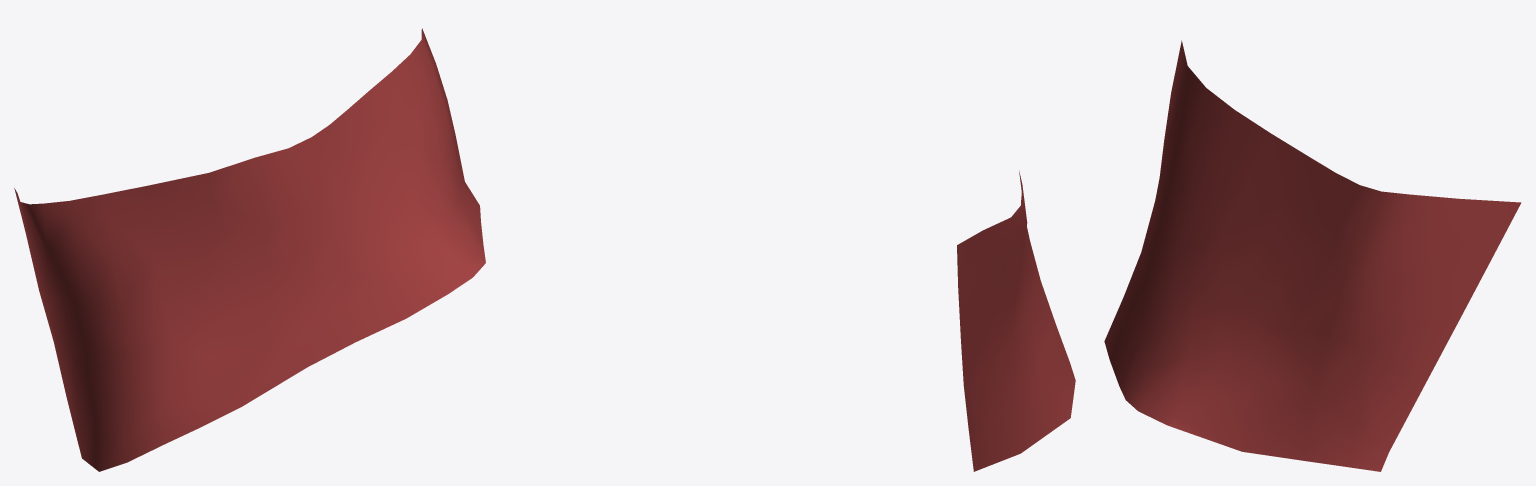
File: flexor-retinaculum-of-wrist-l.glb
3 views of the same model, side by side, from view 1: azimuth 30°, elevation 25°; view 2: azimuth 150°, elevation 25°; view 3: azimuth 270°, elevation 25° (orthographic). The views are drawn at different scales.
Visible parts, largest first — view 1: Flexor retinaculum of wrist.l; view 2: Flexor retinaculum of wrist.l; view 3: Flexor retinaculum of wrist.l.
Boxes of the visible parts, x1,y1,x2,y2 form: Flexor retinaculum of wrist.l: [14, 28, 485, 471]; Flexor retinaculum of wrist.l: [957, 170, 1075, 471]; Flexor retinaculum of wrist.l: [1104, 40, 1521, 471].
Bounding box in the file's own units: 0.0595 × 0.0409 × 0.0337.
